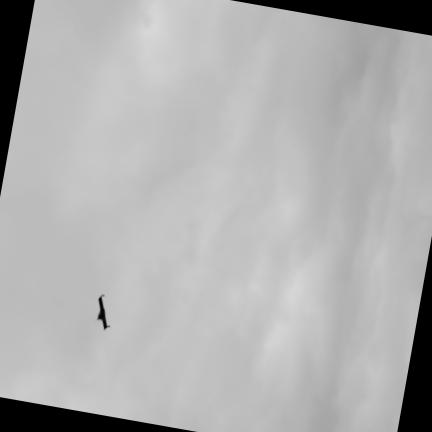Shahed: (96, 294, 110, 328)
